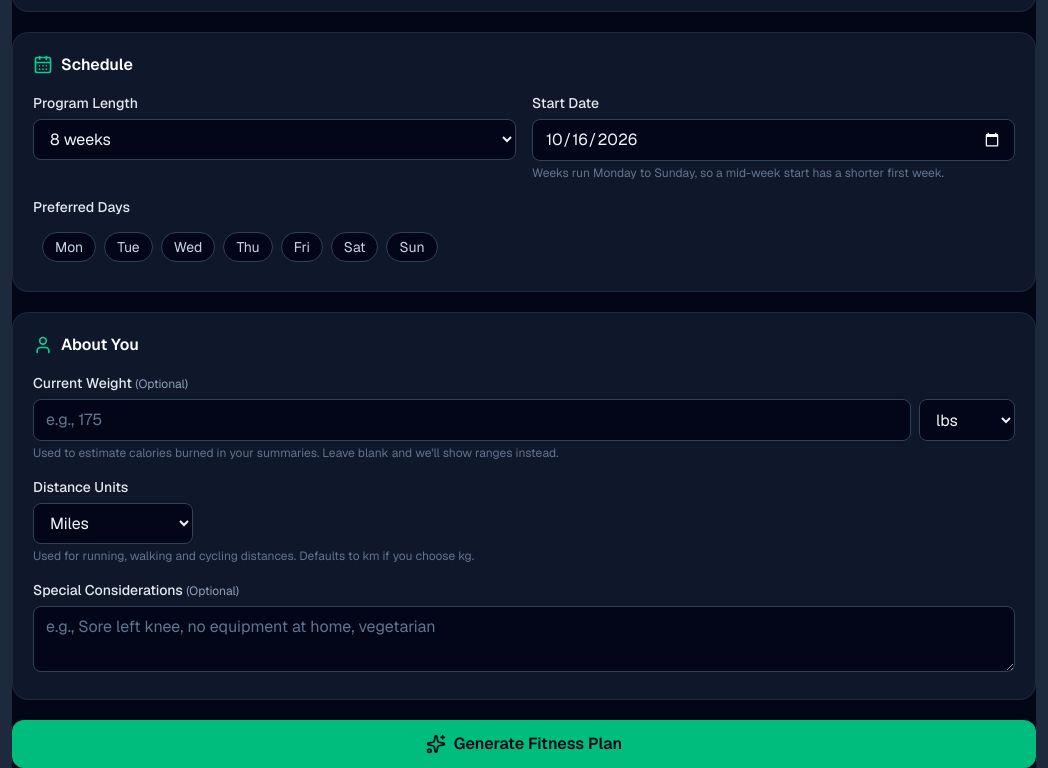
Scenario: IntakeForm validation › does not submit and lists what is missing when nothing is filled in
(page scrolled)
Click the button "Generate Fitness Plan" at {"x": 524, "y": 744}, box x1=12 y1=720 x2=1036 y2=767
(page scrolled)
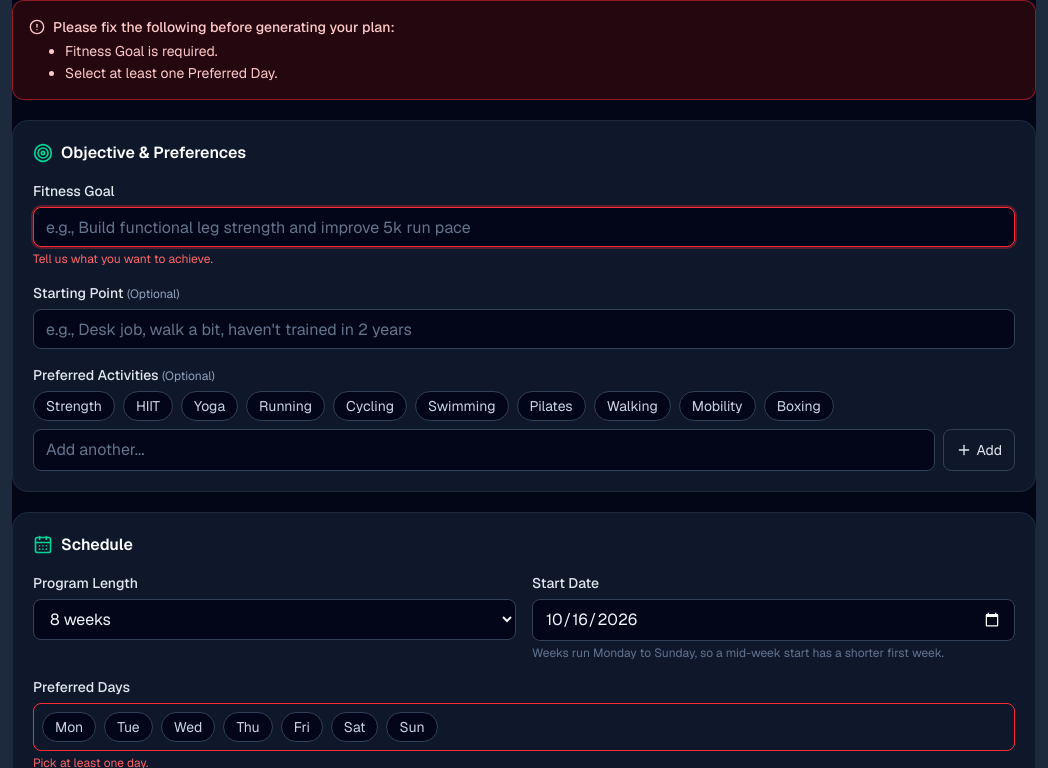
Expected: the list item "Fitness Goal is required." is shown, x1=65 y1=42 x2=218 y2=60
Expected: the list item "Select at least one Preferred Day." is shown, x1=65 y1=64 x2=277 y2=82
